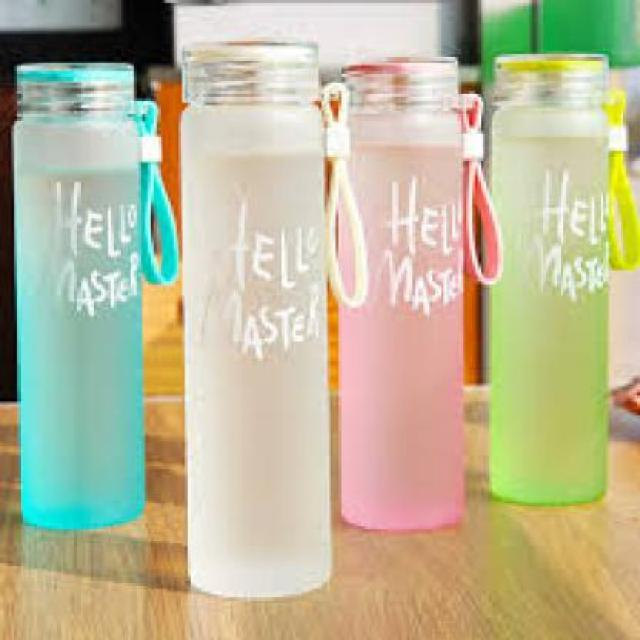Drinking: (157, 31, 378, 598), (0, 51, 168, 558), (480, 20, 623, 512)
